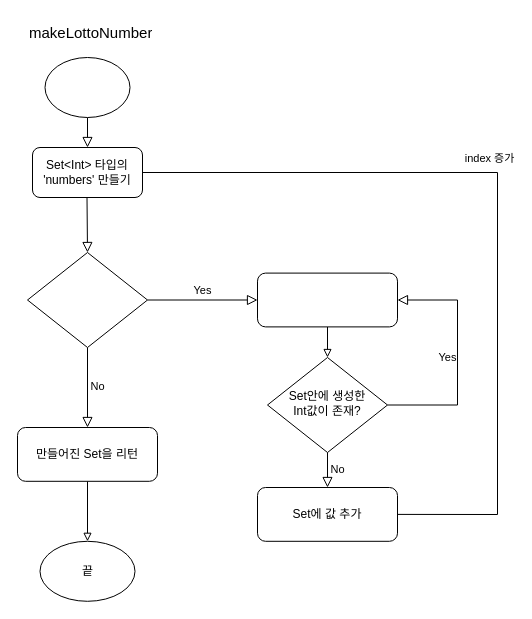
The diagram is 532 pixels wide and 619 high, and some of its shapes have lost their labels. The shapes that lost their labels are listed below. From the top down, each one's box as (x1, y1, x2, y2) in pixels, then its label:
(44, 56, 130, 118): 시작
(26, 252, 148, 348): index가 6보다 작거나 같다면
(256, 272, 398, 327): 1...45 범위의 랜덤 Int값 생성
